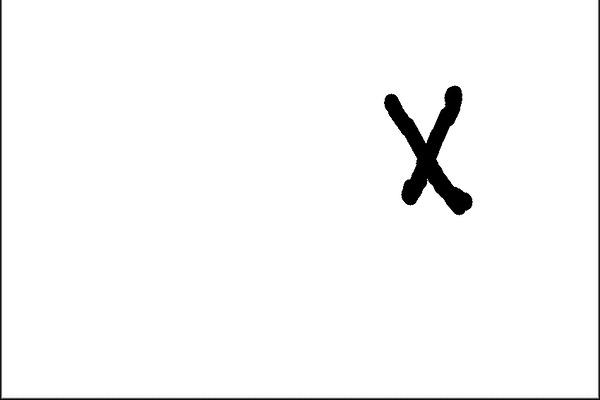X: (358, 68, 482, 216)
